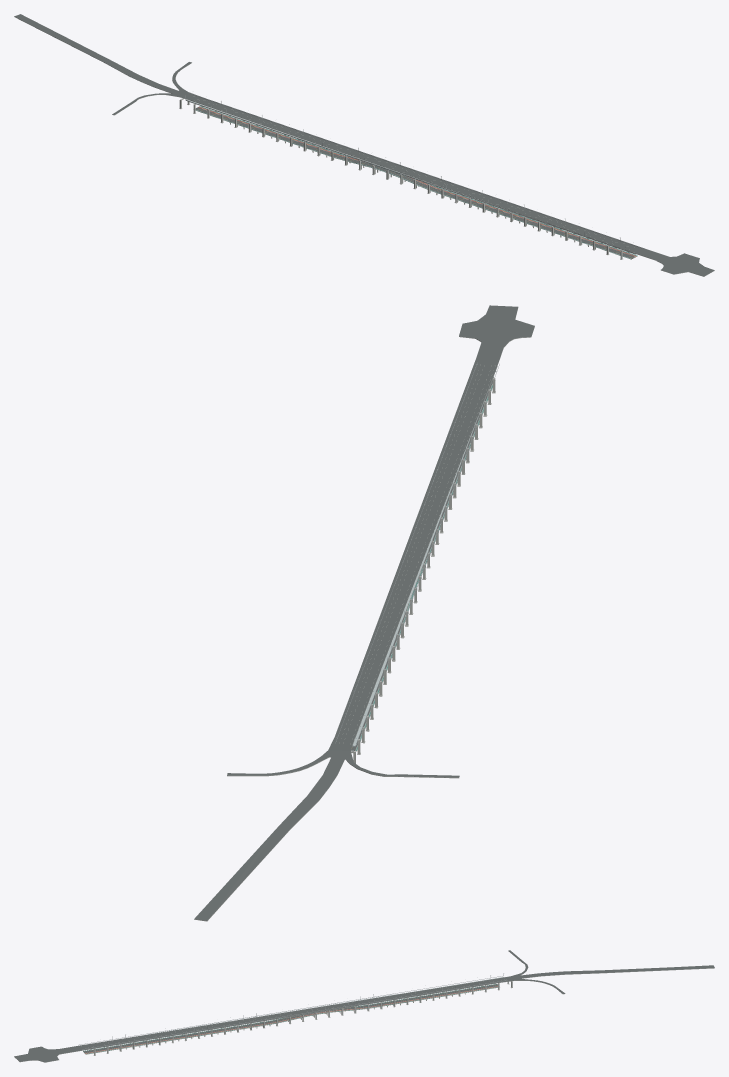
File: bespoke-banpo-jamsu.glb
The picture shows the model from 3 angles, top to bottom: view 1: azimuth 30°, elevation 25°; view 2: azimuth 150°, elevation 25°; view 3: azimuth 270°, elevation 25°; orthographic projection. The views are drawn at different scales.
Parts seen in each view (by area): view 1: Banpo_asphalt_on_source_envelope, Jamsu_two_lane_road, Banpo_and_Jamsu_edge_rails, Banpo_30m_twin_leg_haunched_portal_frames, Banpo_four_longitudinal_steel_box_girders, Banpo_entire_OSM_deck_and_approach_branches, Jamsu_green_walk_and_west_walk, Jamsu_one_sided_red_cycleway; view 2: Banpo_asphalt_on_source_envelope, Banpo_30m_twin_leg_haunched_portal_frames, Banpo_four_longitudinal_steel_box_girders; view 3: Banpo_asphalt_on_source_envelope, Jamsu_two_lane_road, Banpo_and_Jamsu_edge_rails, Banpo_entire_OSM_deck_and_approach_branches, Jamsu_green_walk_and_west_walk, Banpo_30m_twin_leg_haunched_portal_frames, Jamsu_one_sided_red_cycleway, Jamsu_18m_low_deck_with_navigation_crest, Banpo_I_profile_leg_recesses.
Part boxes in pixels (x1,y1,x2,y2): Banpo_asphalt_on_source_envelope: (14, 14, 714, 276); Jamsu_two_lane_road: (195, 107, 634, 258); Banpo_and_Jamsu_edge_rails: (185, 95, 643, 257); Banpo_30m_twin_leg_haunched_portal_frames: (179, 98, 629, 259); Banpo_four_longitudinal_steel_box_girders: (186, 99, 635, 254); Banpo_entire_OSM_deck_and_approach_branches: (14, 16, 714, 276); Jamsu_green_walk_and_west_walk: (196, 106, 637, 258); Jamsu_one_sided_red_cycleway: (198, 106, 636, 256); Banpo_asphalt_on_source_envelope: (194, 305, 534, 920); Banpo_30m_twin_leg_haunched_portal_frames: (351, 377, 495, 763); Banpo_four_longitudinal_steel_box_girders: (352, 366, 497, 746); Banpo_asphalt_on_source_envelope: (14, 950, 714, 1062); Jamsu_two_lane_road: (83, 984, 497, 1052); Banpo_and_Jamsu_edge_rails: (79, 976, 507, 1053); Banpo_entire_OSM_deck_and_approach_branches: (14, 951, 713, 1062); Jamsu_green_walk_and_west_walk: (83, 984, 497, 1054); Banpo_30m_twin_leg_haunched_portal_frames: (90, 981, 512, 1055); Jamsu_one_sided_red_cycleway: (85, 986, 497, 1053); Jamsu_18m_low_deck_with_navigation_crest: (84, 986, 496, 1054); Banpo_I_profile_leg_recesses: (91, 981, 512, 1054).
Size of the model in its own units: 573 by 27.77 by 1506.
